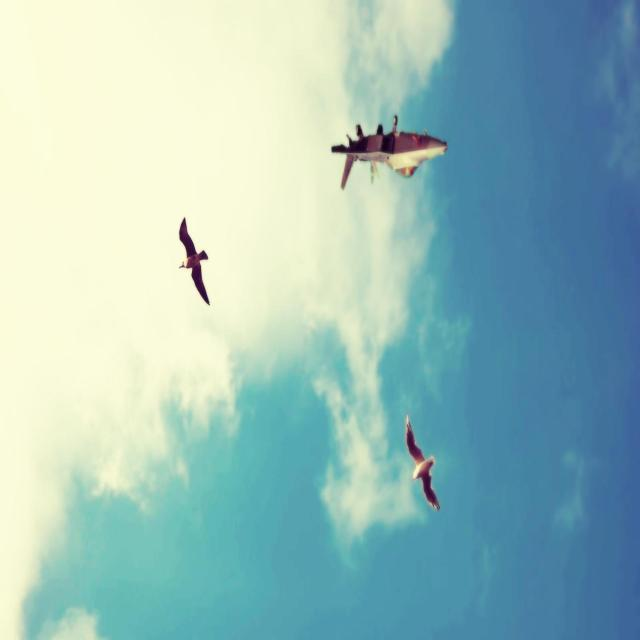airplane: (330, 114, 448, 189)
